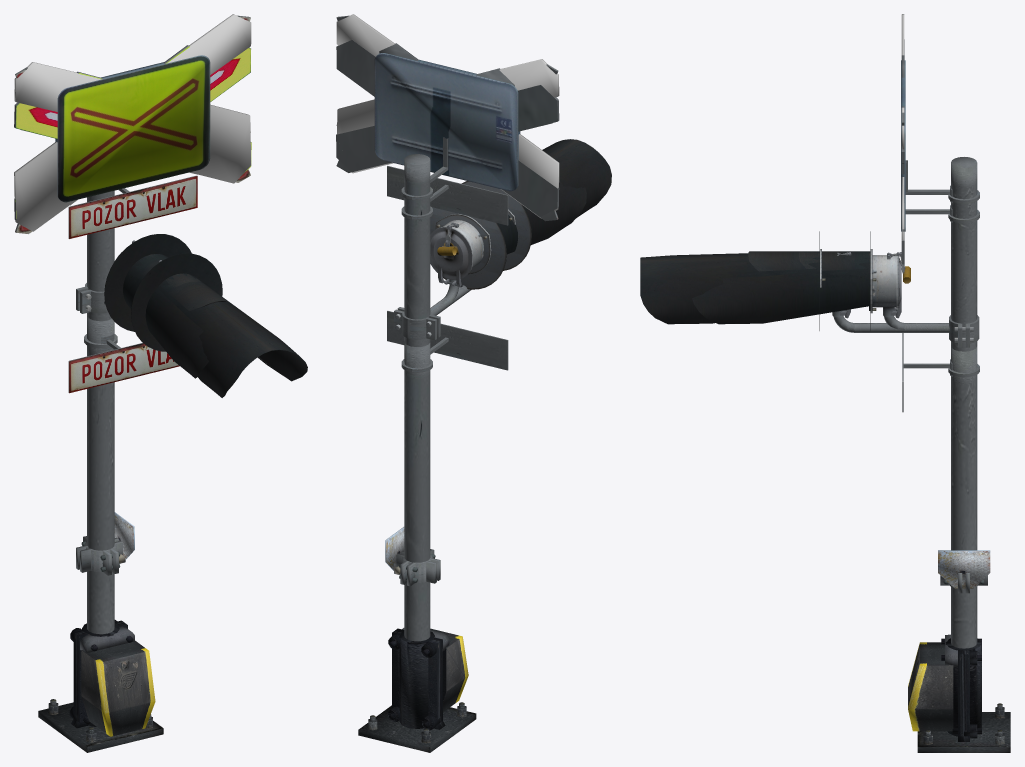
Rendered from sssr_vyst_single.obj.
3 renders of one model, left to right at view 1: azimuth 30°, elevation 25°; view 2: azimuth 150°, elevation 25°; view 3: azimuth 270°, elevation 25°, orthographic. The views are drawn at different scales.
Parts seen in each view (by area): view 1: kriz_sk_refl, kriz_xk_refl_velky, stozar_pruhy, podstavec, svetlo_stinidlo_long_50, pozor_vlak_up_front, svetlo_stinidlo_long_30, pozor_vlak_dn_front, svetlo_base_50, svetlo_base_30, kriz_1k_refl_velky, podklad (+7 smaller); view 2: kriz_sk_refl, stozar_pruhy, kriz_1k_refl_velky, zaklad, kriz_xk_refl_velky, stozar_delsi, pozor_vlak_up_back, svetlo_stinidlo_long_50, podklad, pozor_vlak_dn_back, svetlo_base_back_30, svetlo_stinidlo_long_30 (+9 smaller); view 3: svetlo_stinidlo_long_30, stozar_pruhy, svetlo_stinidlo_long_50, stozar_delsi, podstavec, zaklad, podklad, svetlo_back2_30, stupacka, svetlo_stinidlo_short_30, svetlo_ram_30, svetlo_stinidlo_short_50 (+1 smaller).
Boxes of the visible parts, box(x1,y1,x2,y2) form: kriz_sk_refl: box(55, 55, 210, 202); kriz_xk_refl_velky: box(14, 14, 251, 231); stozar_pruhy: box(76, 316, 125, 634); podstavec: box(80, 627, 155, 736); svetlo_stinidlo_long_50: box(158, 273, 307, 397); pozor_vlak_up_front: box(69, 176, 197, 238); svetlo_stinidlo_long_30: box(123, 254, 208, 378); pozor_vlak_dn_front: box(69, 343, 179, 393); svetlo_base_50: box(131, 253, 222, 351); svetlo_base_30: box(104, 234, 191, 331); kriz_1k_refl_velky: box(14, 47, 251, 220); podklad: box(38, 699, 163, 752); kriz_sk_refl: box(374, 53, 520, 191); stozar_pruhy: box(394, 341, 440, 641); kriz_1k_refl_velky: box(336, 40, 559, 216); zaklad: box(388, 628, 446, 730); kriz_xk_refl_velky: box(336, 14, 559, 218); stozar_delsi: box(404, 154, 430, 346); pozor_vlak_up_back: box(387, 165, 508, 225); svetlo_stinidlo_long_50: box(542, 139, 611, 218); podklad: box(358, 702, 476, 752); pozor_vlak_dn_back: box(387, 310, 508, 370); svetlo_base_back_30: box(430, 207, 506, 289); svetlo_stinidlo_long_30: box(497, 181, 586, 254); svetlo_stinidlo_long_30: box(692, 251, 870, 324); stozar_pruhy: box(950, 346, 977, 648); svetlo_stinidlo_long_50: box(640, 252, 819, 324); stozar_delsi: box(951, 157, 977, 351); podstavec: box(908, 634, 957, 731); zaklad: box(941, 638, 981, 741); podklad: box(917, 703, 1010, 752); svetlo_back2_30: box(870, 249, 903, 317); stupacka: box(938, 550, 990, 587); svetlo_stinidlo_short_30: box(799, 251, 870, 270); svetlo_ram_30: box(884, 315, 979, 347); svetlo_stinidlo_short_50: box(748, 251, 819, 271).
Bounding box in the file's own units: 0.6555 × 1.89 × 0.9382.
